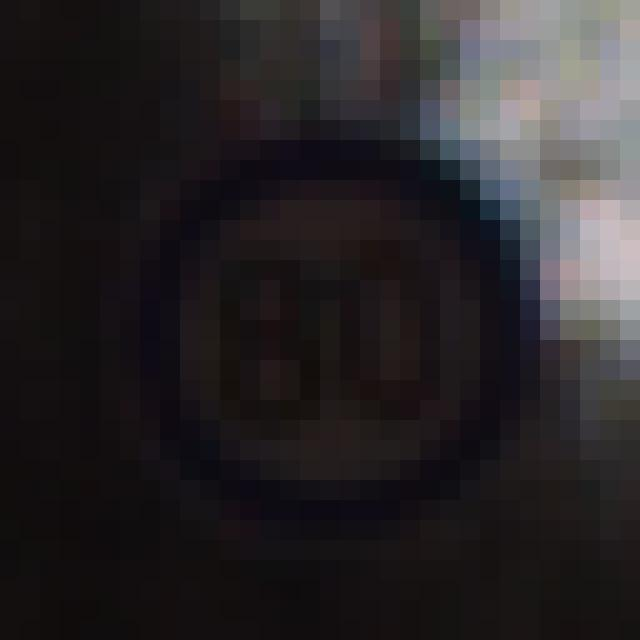SPEED-LIMIT-80: (122, 137, 540, 496)
